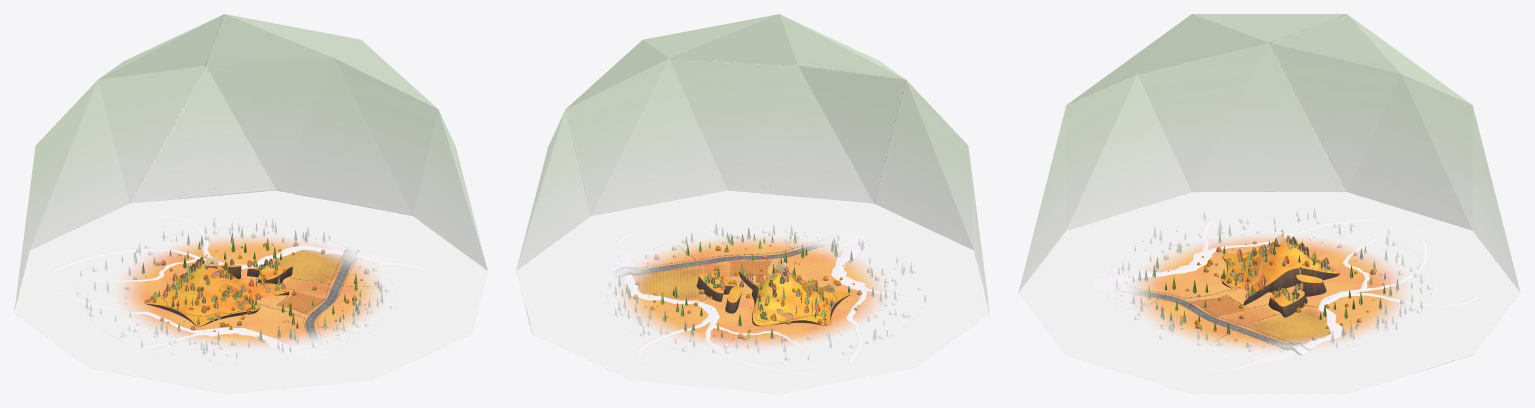
The model's file is hillHouse_compressed.glb.
3 views of the same model, side by side, from view 1: azimuth 30°, elevation 25°; view 2: azimuth 150°, elevation 25°; view 3: azimuth 270°, elevation 25° (orthographic). The views are drawn at different scales.
Size of the model in its own units: 156 by 97.4 by 164.
1 material, 1 textured.
